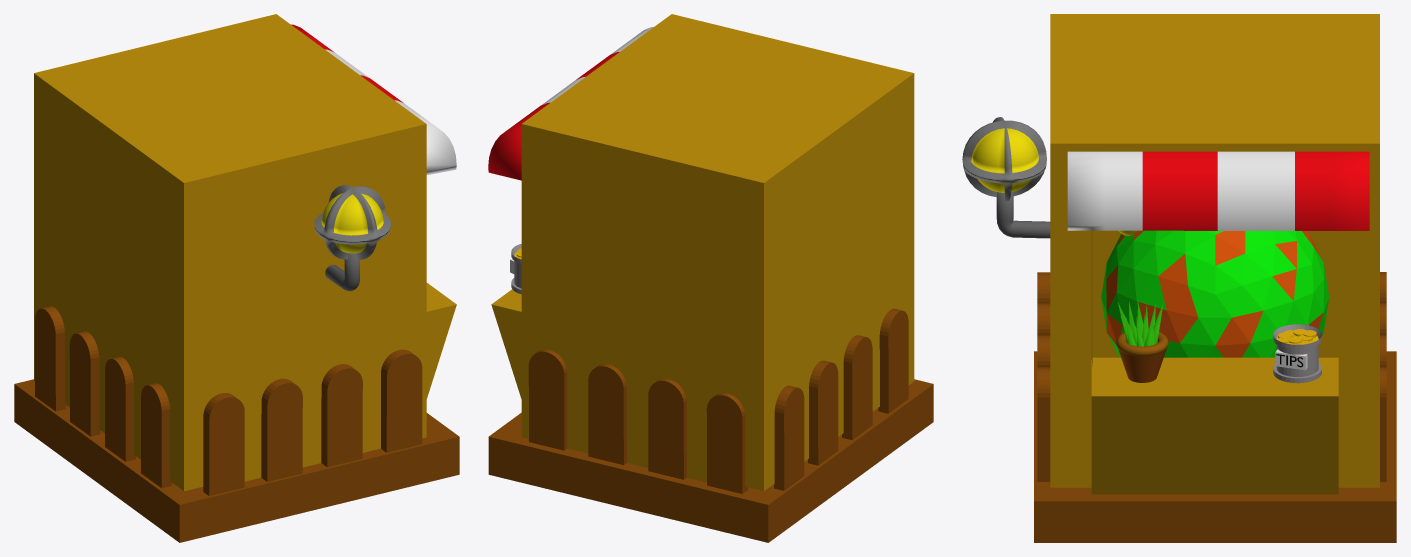
Rendered from stomp_shop.glb.
The picture shows the model from 3 angles, left to right: view 1: azimuth 30°, elevation 25°; view 2: azimuth 150°, elevation 25°; view 3: azimuth 270°, elevation 25°; orthographic projection. The views are drawn at different scales.
Visible parts, largest first — view 1: Cube.001, Cylinder.001, Cylinder.003, Cylinder.002, Cylinder.012, Cylinder.008, Cylinder.009, Cylinder.010, Cylinder.007; view 2: Cube.001, Cylinder.006, Cylinder.011, Cylinder.004, Cylinder.005, Cylinder.009, Cylinder.008, Cylinder.007, Cylinder.010; view 3: Cube.001, Icosphere, Cylinder.003, Cylinder.006.
Part boxes in pixels (bbox=[...]): Cube.001: bbox=[14, 14, 459, 542]; Cylinder.001: bbox=[261, 378, 302, 481]; Cylinder.003: bbox=[381, 349, 422, 452]; Cylinder.002: bbox=[321, 364, 362, 467]; Cylinder.012: bbox=[203, 393, 244, 495]; Cylinder.008: bbox=[69, 331, 100, 436]; Cylinder.009: bbox=[35, 306, 65, 411]; Cylinder.010: bbox=[141, 383, 171, 488]; Cylinder.007: bbox=[105, 356, 135, 461]; Cube.001: bbox=[488, 14, 933, 542]; Cylinder.006: bbox=[528, 349, 567, 450]; Cylinder.011: bbox=[706, 393, 748, 493]; Cylinder.004: bbox=[648, 378, 686, 479]; Cylinder.005: bbox=[588, 364, 626, 465]; Cylinder.009: bbox=[774, 385, 804, 490]; Cylinder.008: bbox=[808, 360, 838, 465]; Cylinder.007: bbox=[842, 335, 872, 440]; Cylinder.010: bbox=[878, 308, 908, 413]; Cube.001: bbox=[962, 14, 1396, 542]; Icosphere: bbox=[1101, 230, 1329, 357]; Cylinder.003: bbox=[1037, 367, 1050, 481]; Cylinder.006: bbox=[1380, 367, 1386, 481].
Size of the model in its own units: 2.33 by 2.58 by 2.63.
